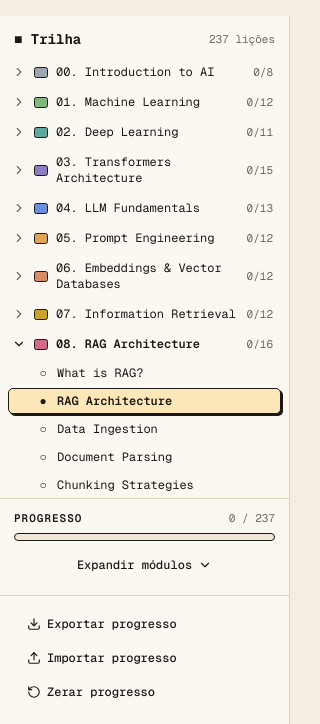
Test: CourseSidebar › expande e recolhe um módulo ao clicar nele
Expected: the button "What is Artificial Intelligence?" is not shown
Click the button "00. Introduction to AI 0/8" at (144, 72), box [8,58,281,86]
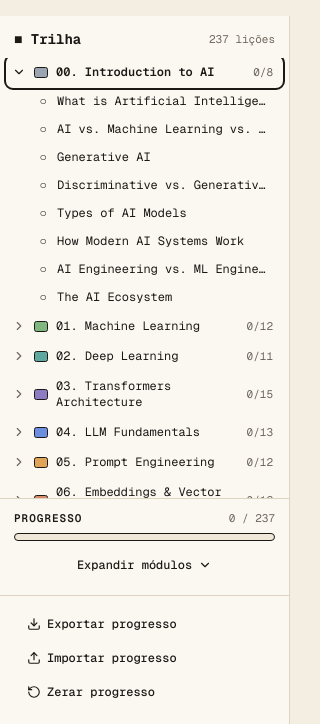
Result: the button "○ What is Artificial Intelligence?" is shown at [8,88,281,114]
Click the button "00. Introduction to AI 0/8" at (144, 72), box [8,58,281,86]
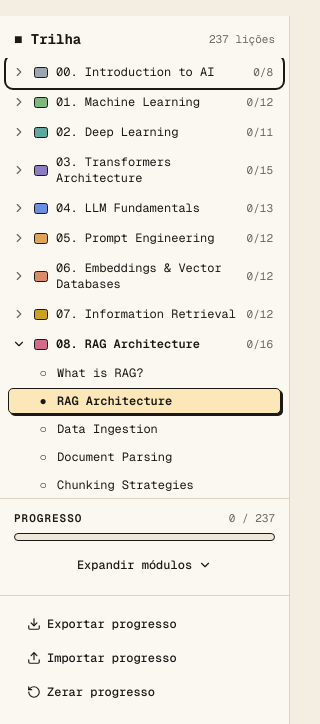
Result: the button "What is Artificial Intelligence?" is gone
